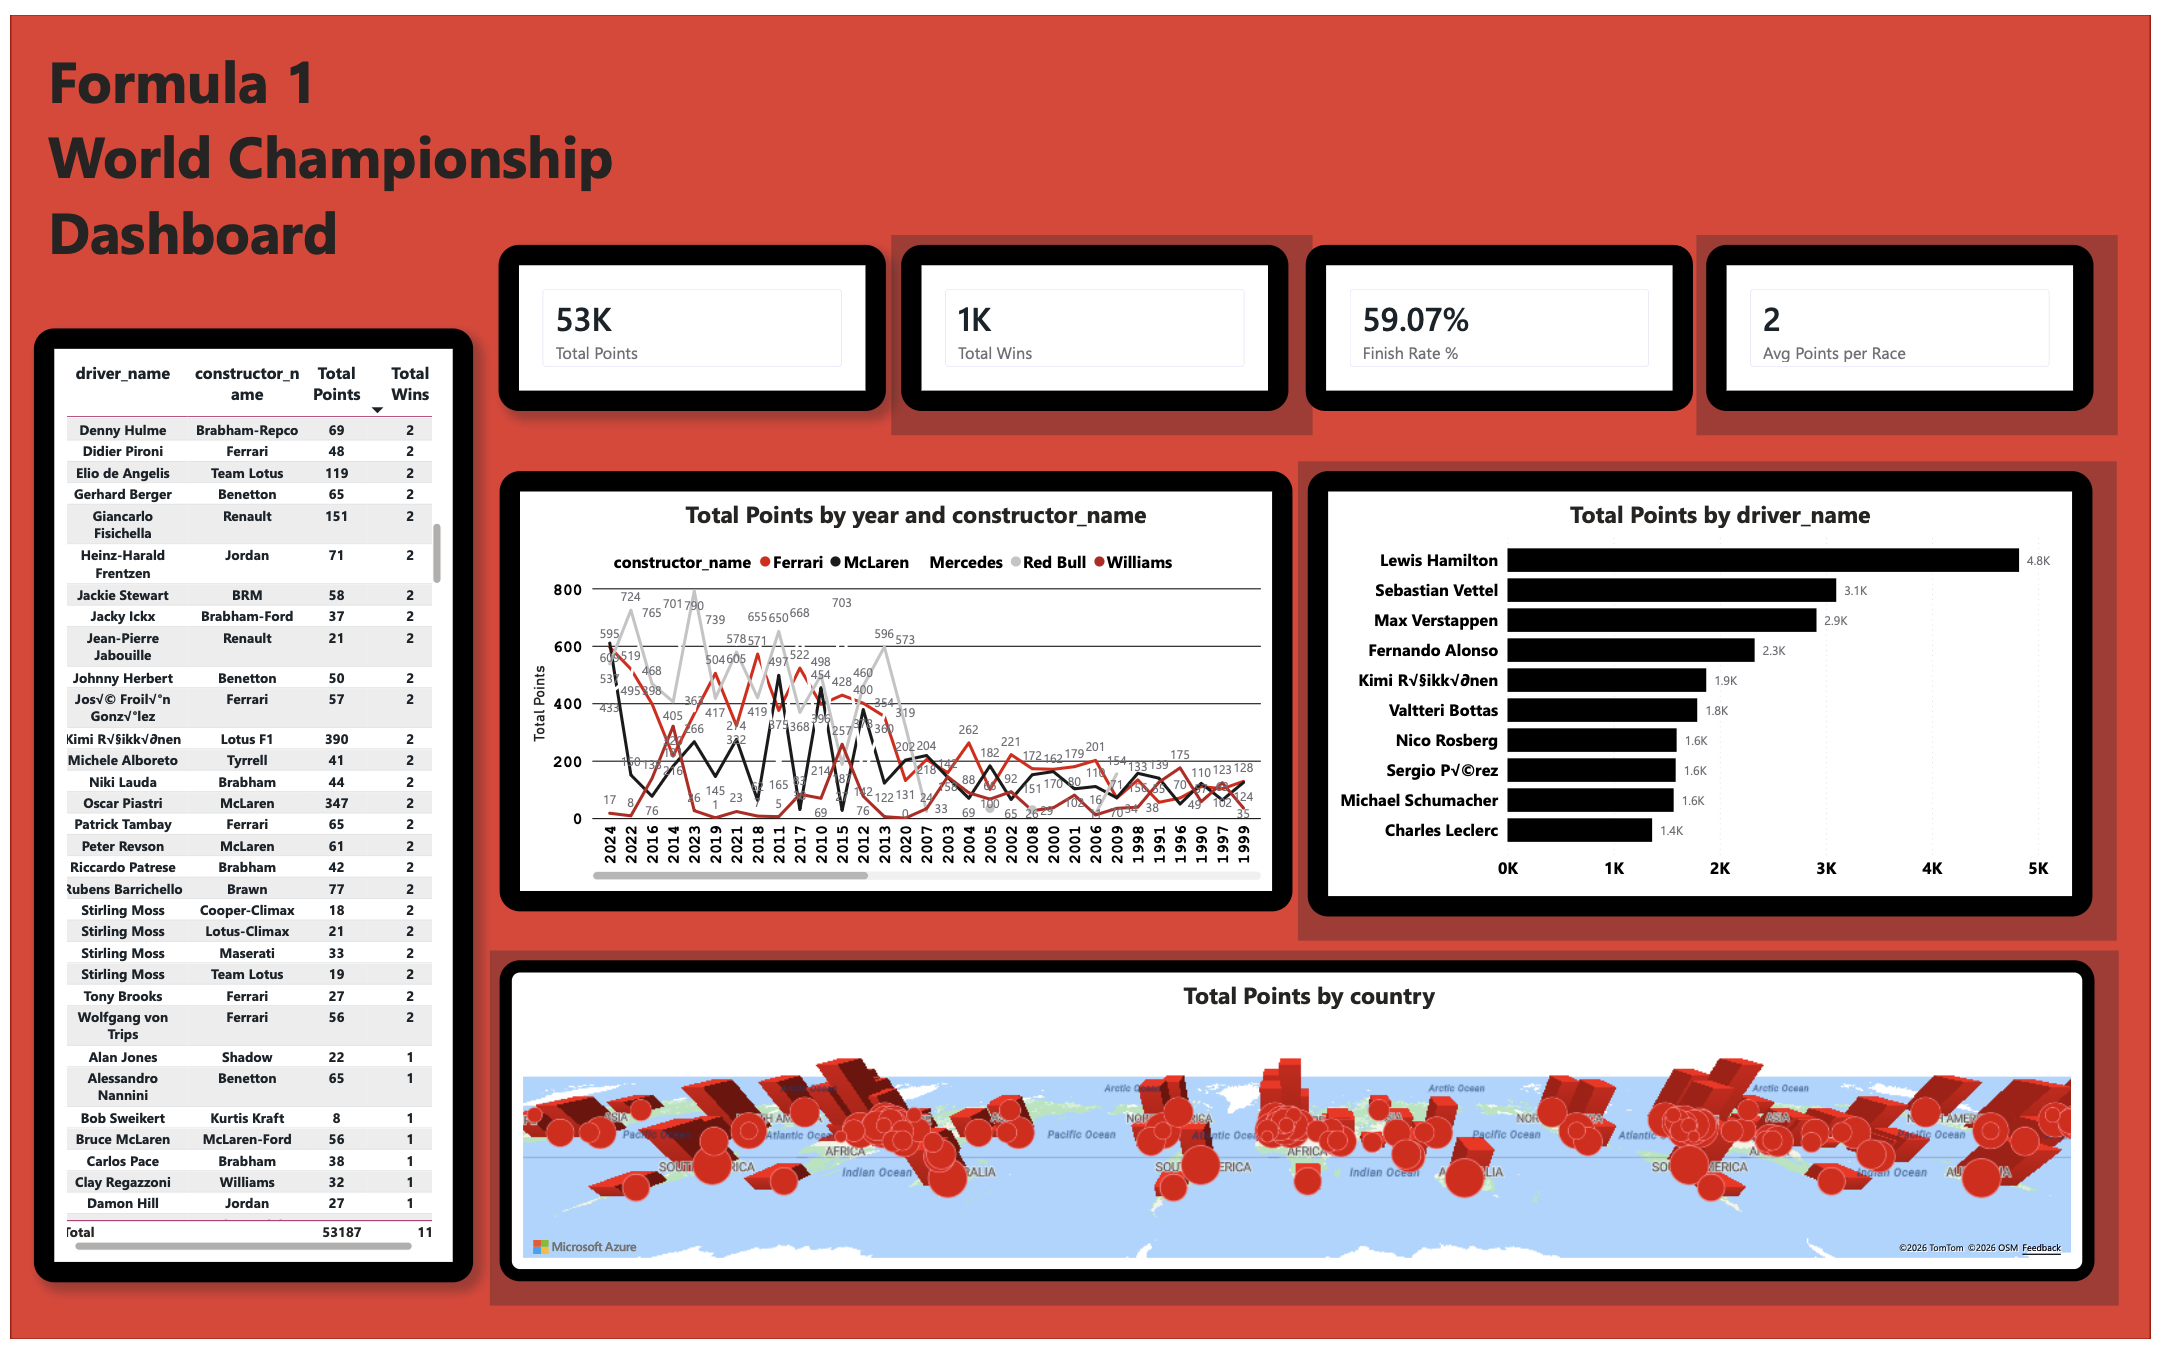

The page's visual inventory and layout, read from the dashboard file:
{"tool":"powerbi","page":{"name":"Page 1","canvas":[2100,1300],"ordinal":0},"visuals":[{"type":"shape","box":[0,0,2100,1300],"z":0},{"type":"cardVisual","fields":{"Data":["Data.Total Wins"]},"box":[873.8,226.2,380,162.5],"z":1000},{"type":"cardVisual","fields":{"Data":["Data.Total Points"]},"box":[478.8,226.2,380,162.5],"z":2000},{"type":"cardVisual","fields":{"Data":["Data.Avg Points per Race"]},"box":[1663.8,226.2,380,162.5],"z":3000},{"type":"cardVisual","fields":{"Data":["Data.Finish Rate %"]},"box":[1271.2,226.2,380,162.5],"z":4000},{"type":"clusteredBarChart","fields":{"Category":["Data.driver_name"],"Y":["Data.Total Points"]},"box":[1272.5,447.5,770,437.5],"z":5000},{"type":"lineChart","fields":{"Category":["Data.year"],"Series":["Data.constructor_name"],"Y":["Data.Total Points"]},"box":[480,447.5,777.5,432.5],"z":6000},{"type":"azureMap","fields":{"Category":["Data.country"],"Size":["Data.Total Points"]},"box":[480,927.5,1565,315],"z":7000},{"type":"tableEx","fields":{"Values":["Data.driver_name","Data.constructor_name","Data.Total Points","Data.Total Wins"]},"box":[23.1,307.7,430.8,935.9],"z":8000},{"type":"textbox","box":[32.4,20.6,588.2,273.5],"z":9000}]}

Visuals, with their boxes in screenshot pixels (x1, y1, x2, y2), scaled from the page's 2100x1300 canvas onto the 2166x1352 screenshot:
shape: l=0, t=0, r=2165, b=1351
cardVisual - Data.Total Wins: l=901, t=235, r=1293, b=404
cardVisual - Data.Total Points: l=494, t=235, r=886, b=404
cardVisual - Data.Avg Points per Race: l=1716, t=235, r=2108, b=404
cardVisual - Data.Finish Rate %: l=1311, t=235, r=1703, b=404
clusteredBarChart - Data.driver_name x Data.Total Points: l=1312, t=465, r=2107, b=920
lineChart - Data.year x Data.constructor_name: l=495, t=465, r=1297, b=915
azureMap - Data.country x Data.Total Points: l=495, t=965, r=2109, b=1292
tableEx - Data.driver_name x Data.constructor_name: l=24, t=320, r=468, b=1293
textbox: l=33, t=21, r=640, b=306
